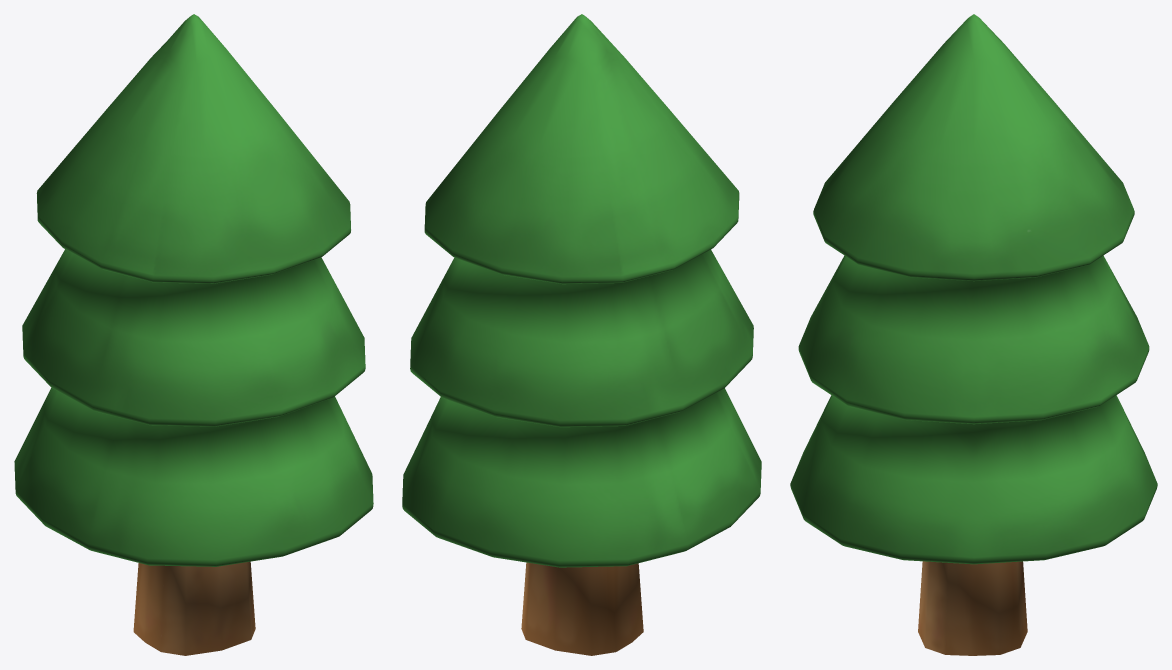
File: tree2.fbx
The picture shows the model from 3 angles, left to right: view 1: azimuth 30°, elevation 25°; view 2: azimuth 150°, elevation 25°; view 3: azimuth 270°, elevation 25°; orthographic projection.
Parts seen in each view (by area): view 1: Tree2; view 2: Tree2; view 3: Tree2.
Part boxes in pixels (x1,y1,x2,y2): Tree2: (14, 14, 373, 655); Tree2: (402, 14, 761, 655); Tree2: (790, 14, 1157, 655).
Bounding box in the file's own units: 300 × 585 × 315.
